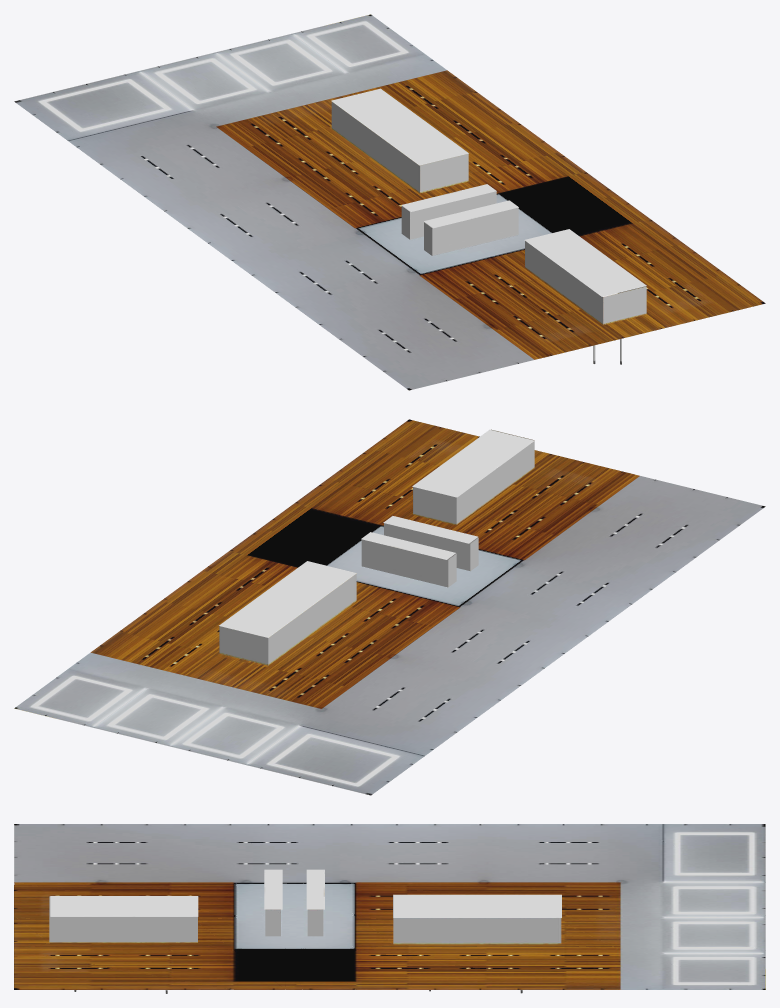
The model's file is Roof.fbx.
3 renders of one model, top to bottom at view 1: azimuth 30°, elevation 25°; view 2: azimuth 150°, elevation 25°; view 3: azimuth 270°, elevation 25°, orthographic. The views are drawn at different scales.
Parts seen in each view (by area): view 1: Outer; view 2: Outer; view 3: Outer.
Boxes of the visible parts, x1=… form: Outer: x1=14, y1=14, x2=765, y2=390; Outer: x1=14, y1=419, x2=765, y2=795; Outer: x1=14, y1=824, x2=765, y2=993.
Bounding box in the file's own units: 647 × 147 × 1241.
